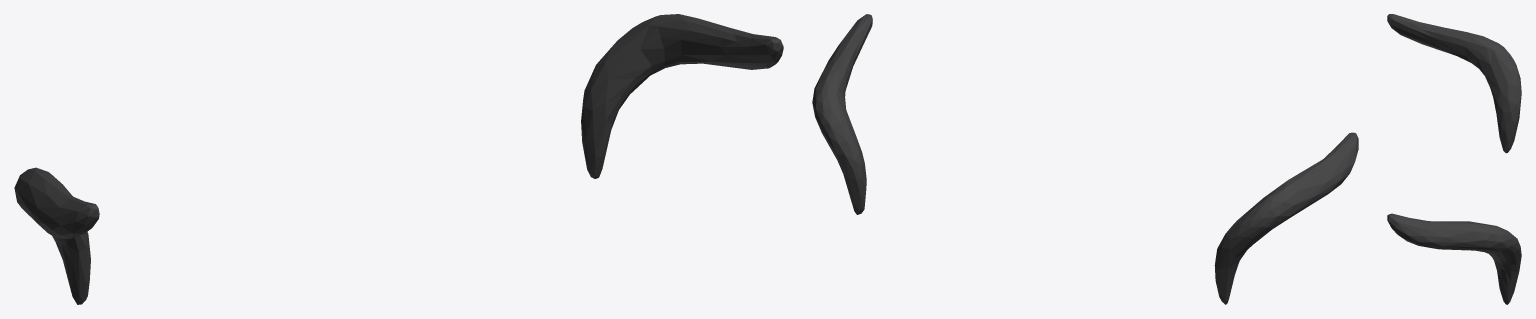
Rendered from m_teres_minor.glb.
3 views of the same model, side by side, from view 1: azimuth 30°, elevation 25°; view 2: azimuth 150°, elevation 25°; view 3: azimuth 270°, elevation 25° (orthographic). The views are drawn at different scales.
Parts seen in each view (by area): view 1: m_teres_minor; view 2: m_teres_minor; view 3: m_teres_minor.
Boxes of the visible parts, x1,y1,x2,y2 form: m_teres_minor: [14, 14, 783, 304]; m_teres_minor: [812, 14, 1358, 304]; m_teres_minor: [1387, 14, 1521, 304].
Size of the model in its own units: 0.00414 by 0.00105 by 0.00112.
Materials: 1 (1 with a texture image).
